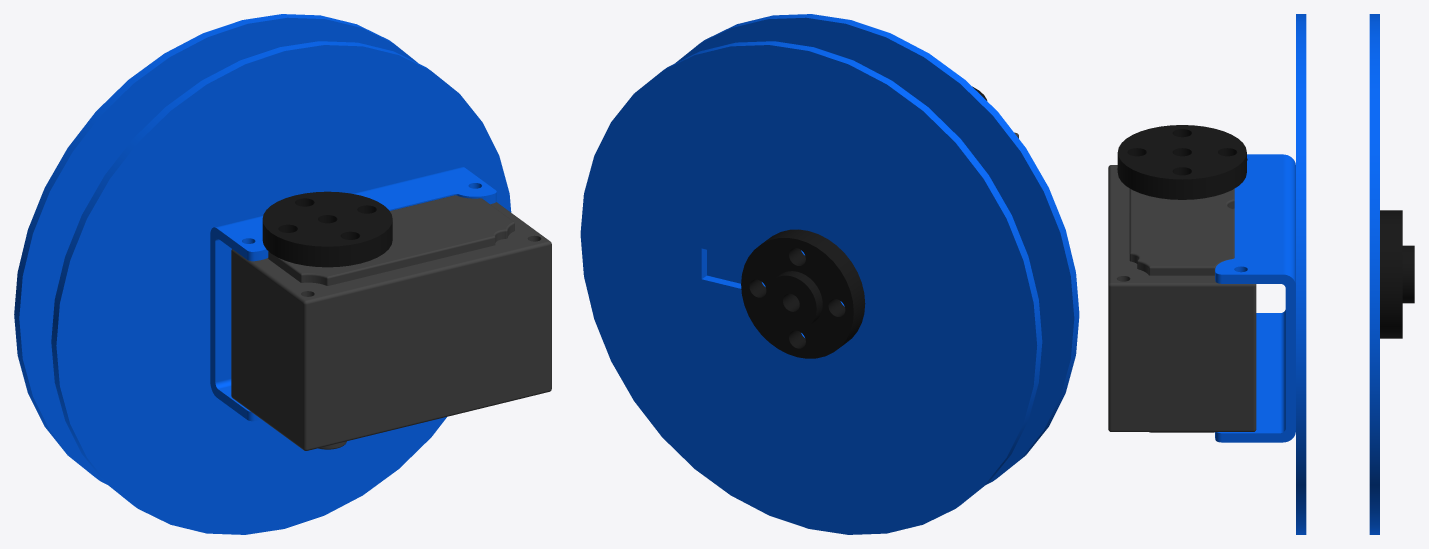
File: xarm-s6.obj
3 views of the same model, side by side, from view 1: azimuth 30°, elevation 25°; view 2: azimuth 150°, elevation 25°; view 3: azimuth 270°, elevation 25° (orthographic).
Visible parts, largest first — view 1: Rotating_Base, Servo_5, Circumference.005; view 2: Rotating_Base, Circumference.006; view 3: Servo_5, Rotating_Base, Circumference.005, Circumference.006.
Boxes of the visible parts, x1,y1,x2,y2 form: Rotating_Base: (14, 14, 511, 534); Servo_5: (231, 195, 551, 450); Circumference.005: (262, 191, 392, 267); Rotating_Base: (580, 14, 1079, 534); Circumference.006: (741, 229, 865, 358); Servo_5: (1108, 165, 1256, 432); Rotating_Base: (1215, 14, 1379, 534); Circumference.005: (1117, 125, 1246, 199); Circumference.006: (1380, 210, 1414, 338).
Bounding box in the file's own units: 81 × 81 × 47.44.
